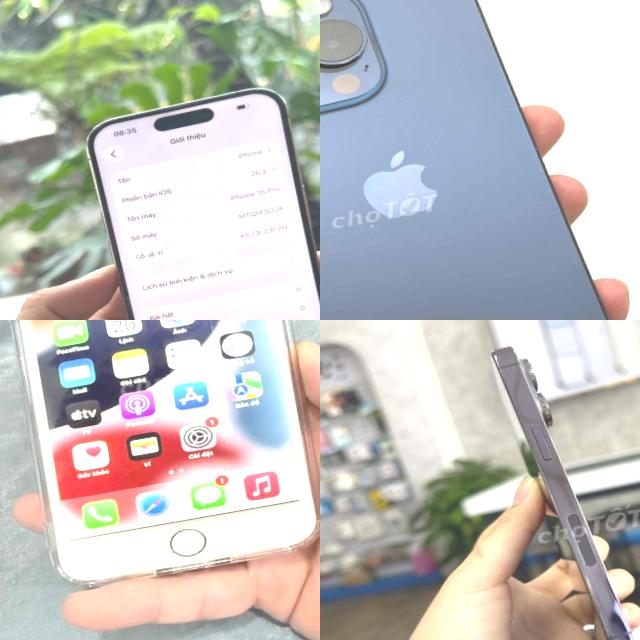gen_14: (480, 320, 640, 640)
gen_15: (320, 0, 640, 320), (57, 80, 320, 320)
gen_7_8: (10, 320, 319, 585)
